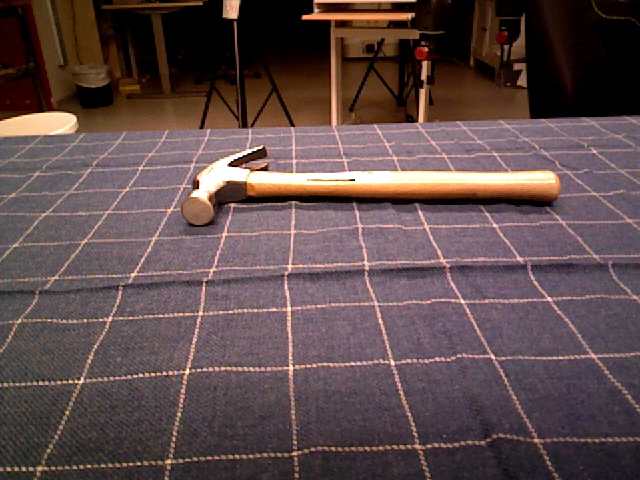hammer1: (180, 143, 560, 229)
